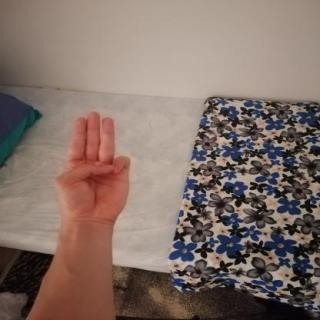THA: (39, 106, 142, 232)
